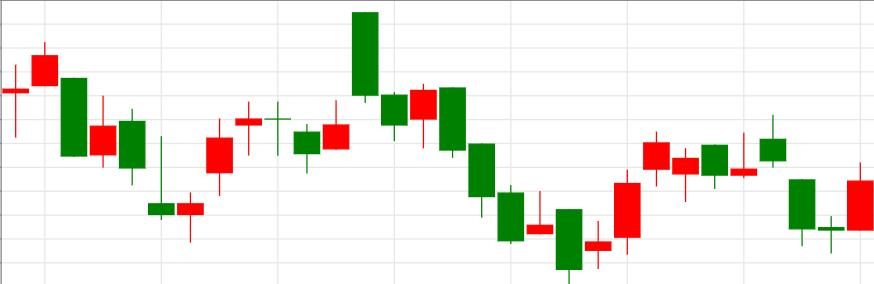three_black_crows_fall: (380, 83, 526, 244)
